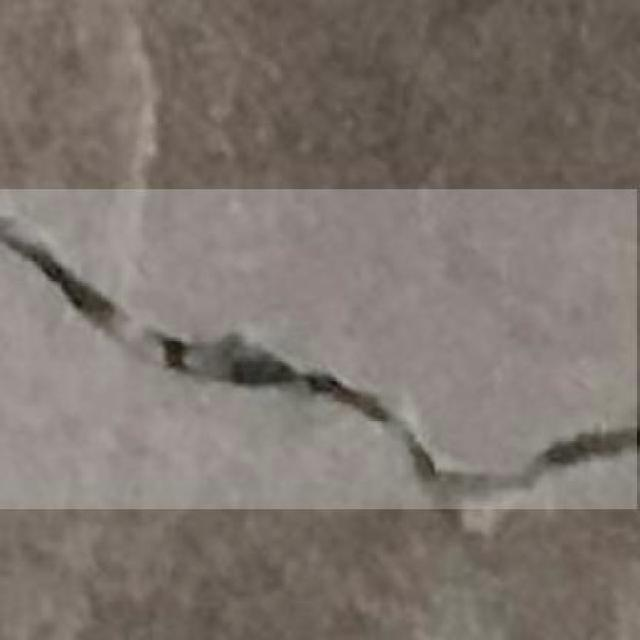crack: (14, 192, 640, 524)
